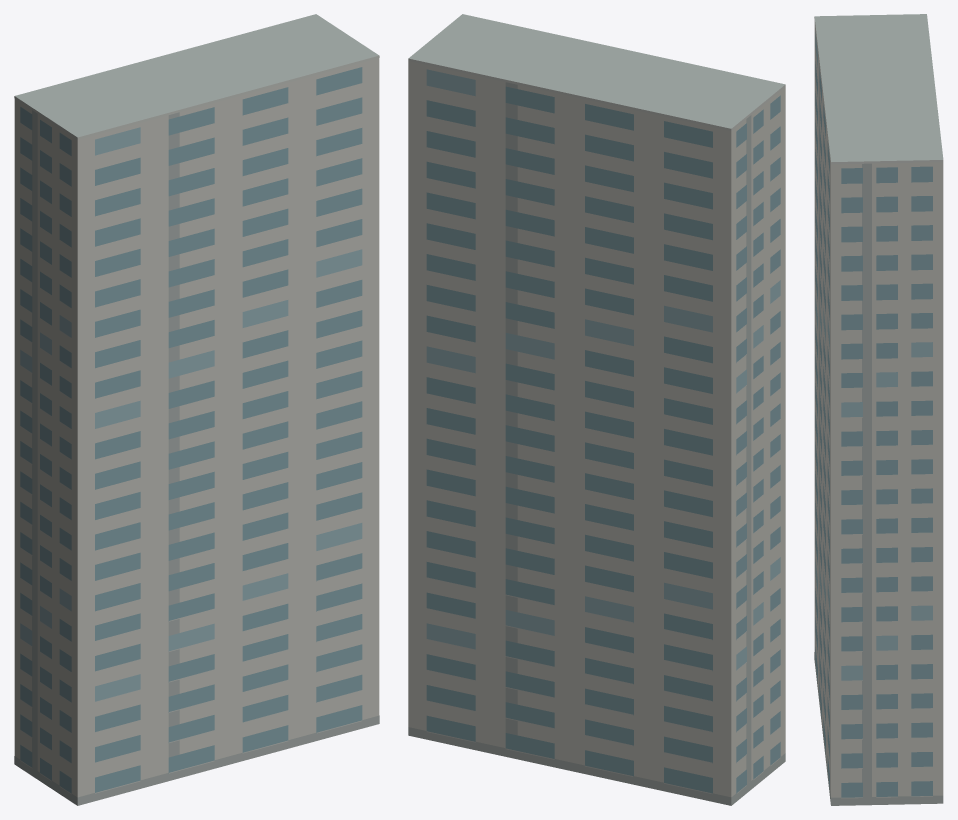
The model's file is residential-5d58cb8b-b91c-4527-8838-f68f75e228eb.glb.
3 views of the same model, side by side, from view 1: azimuth 30°, elevation 25°; view 2: azimuth 150°, elevation 25°; view 3: azimuth 270°, elevation 25° (orthographic). The views are drawn at different scales.
Visible parts, largest first — view 1: residential-5d58cb8b-b91c-4527-8838-f68f75e228eb.tmp; view 2: residential-5d58cb8b-b91c-4527-8838-f68f75e228eb.tmp; view 3: residential-5d58cb8b-b91c-4527-8838-f68f75e228eb.tmp.
Part boxes in pixels (x1,y1,x2,y2): residential-5d58cb8b-b91c-4527-8838-f68f75e228eb.tmp: (14, 14, 379, 805); residential-5d58cb8b-b91c-4527-8838-f68f75e228eb.tmp: (408, 14, 785, 805); residential-5d58cb8b-b91c-4527-8838-f68f75e228eb.tmp: (814, 14, 943, 805).
Bounding box in the file's own units: 33.12 × 67.1 × 12.19.
